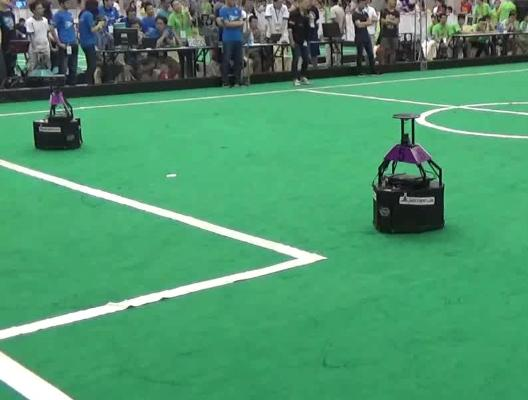robot: (370, 106, 454, 238), (24, 74, 86, 153)
